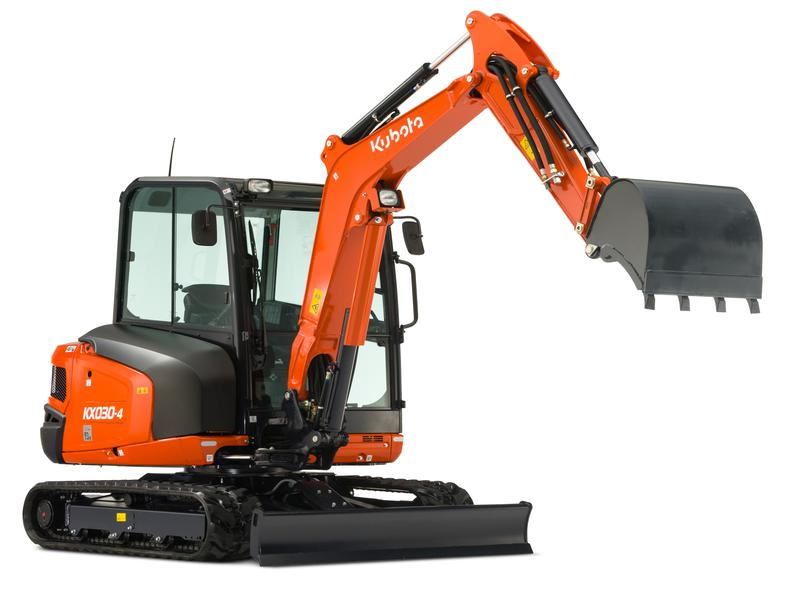shovel: (12, 6, 769, 571)
